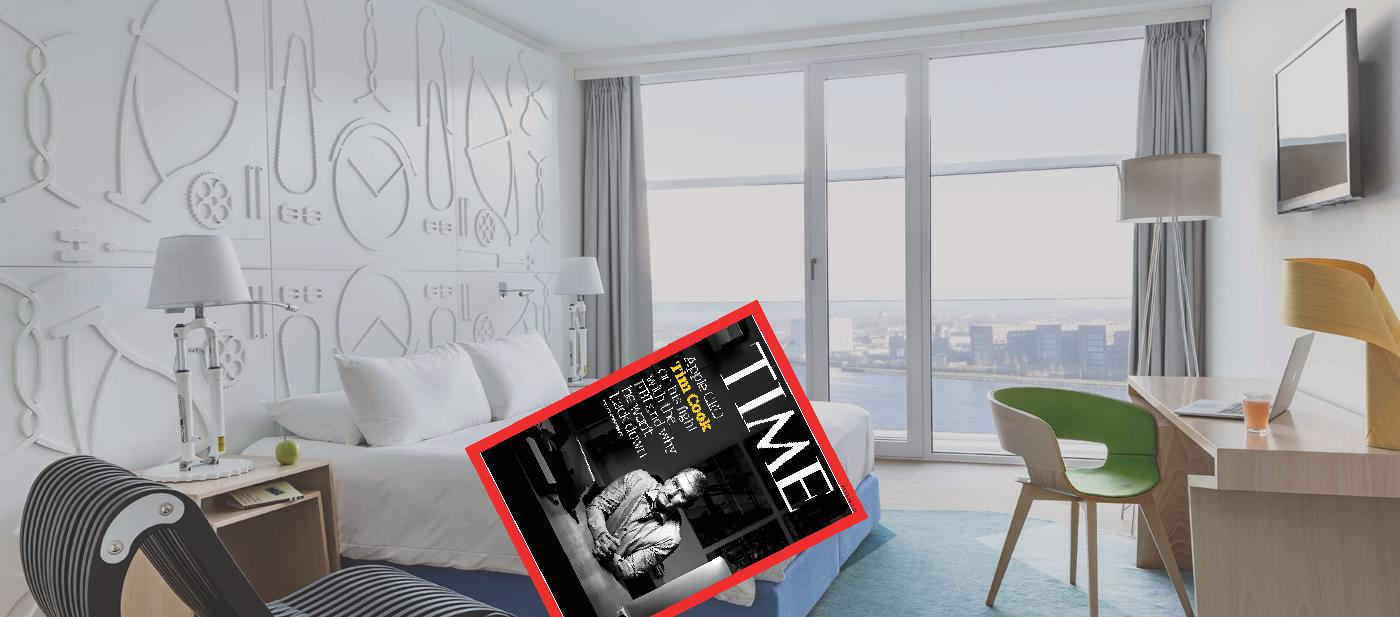times: (461, 296, 866, 617)
